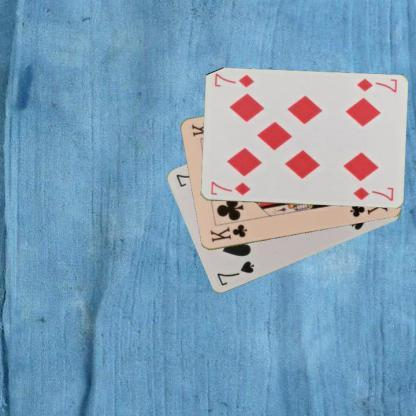7d: (208, 178, 252, 198), (354, 76, 398, 94)
7s: (214, 258, 256, 288)
Kc: (208, 222, 249, 244)
